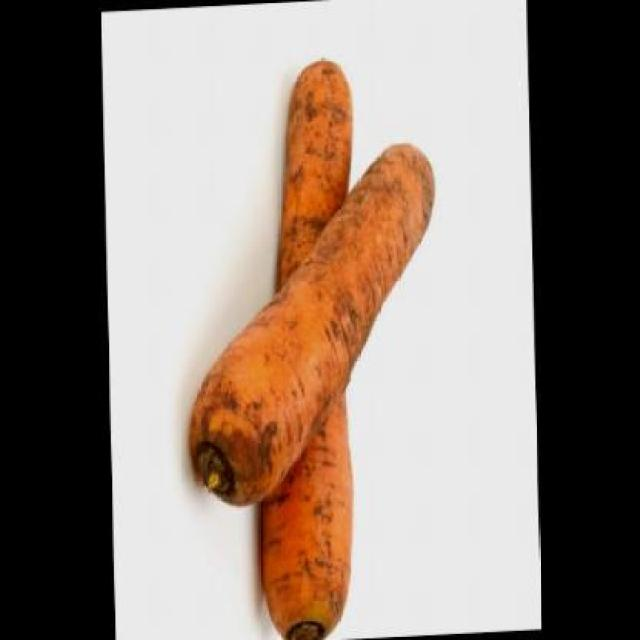carrot: (181, 143, 441, 509), (246, 56, 366, 639)
